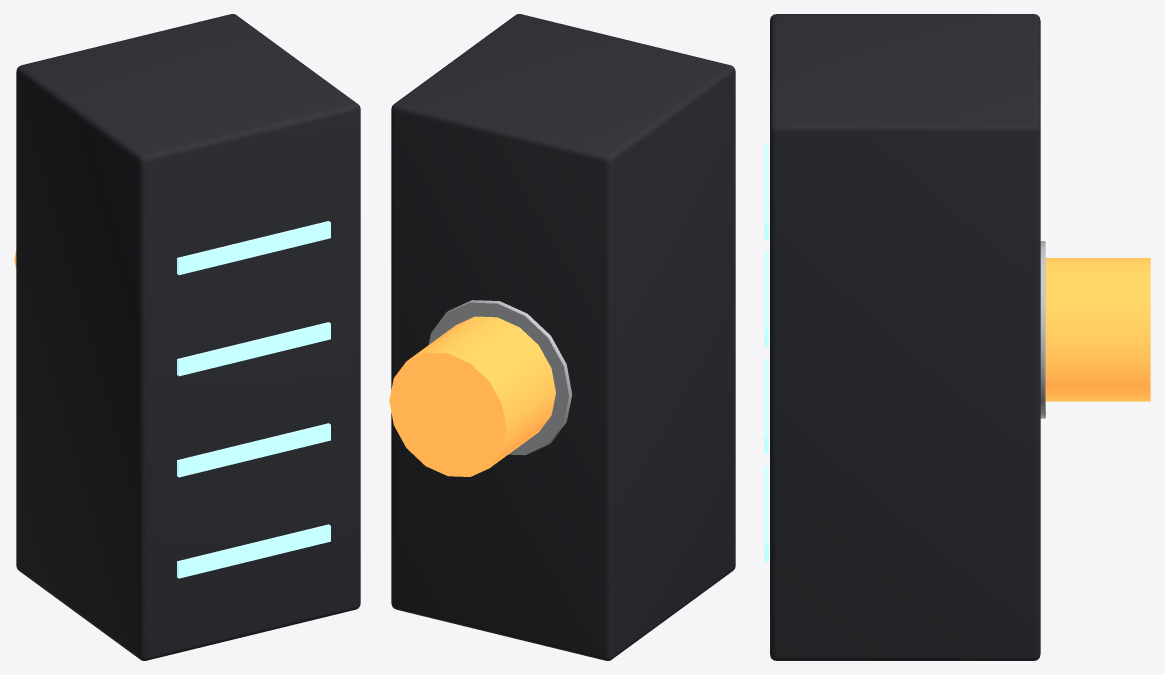
Rendered from power_core_tower.glb.
3 views of the same model, side by side, from view 1: azimuth 30°, elevation 25°; view 2: azimuth 150°, elevation 25°; view 3: azimuth 270°, elevation 25° (orthographic). The views are drawn at different scales.
Parts seen in each view (by area): view 1: CoreBody, PwrW0, PwrW1, PwrW2, PwrW3; view 2: CoreBody, Core, Collar; view 3: CoreBody, Core, Collar.
Part boxes in pixels (<box>): CoreBody: <box>16,14,360,660</box>; PwrW0: <box>177,524,330,578</box>; PwrW1: <box>177,423,330,477</box>; PwrW2: <box>177,322,330,376</box>; PwrW3: <box>177,221,330,274</box>; CoreBody: <box>391,14,735,660</box>; Core: <box>389,316,555,476</box>; Collar: <box>428,300,572,455</box>; CoreBody: <box>770,14,1040,660</box>; Core: <box>1045,258,1150,401</box>; Collar: <box>1040,241,1045,418</box>.
Size of the model in its own units: 3.2 by 7 by 4.57.
